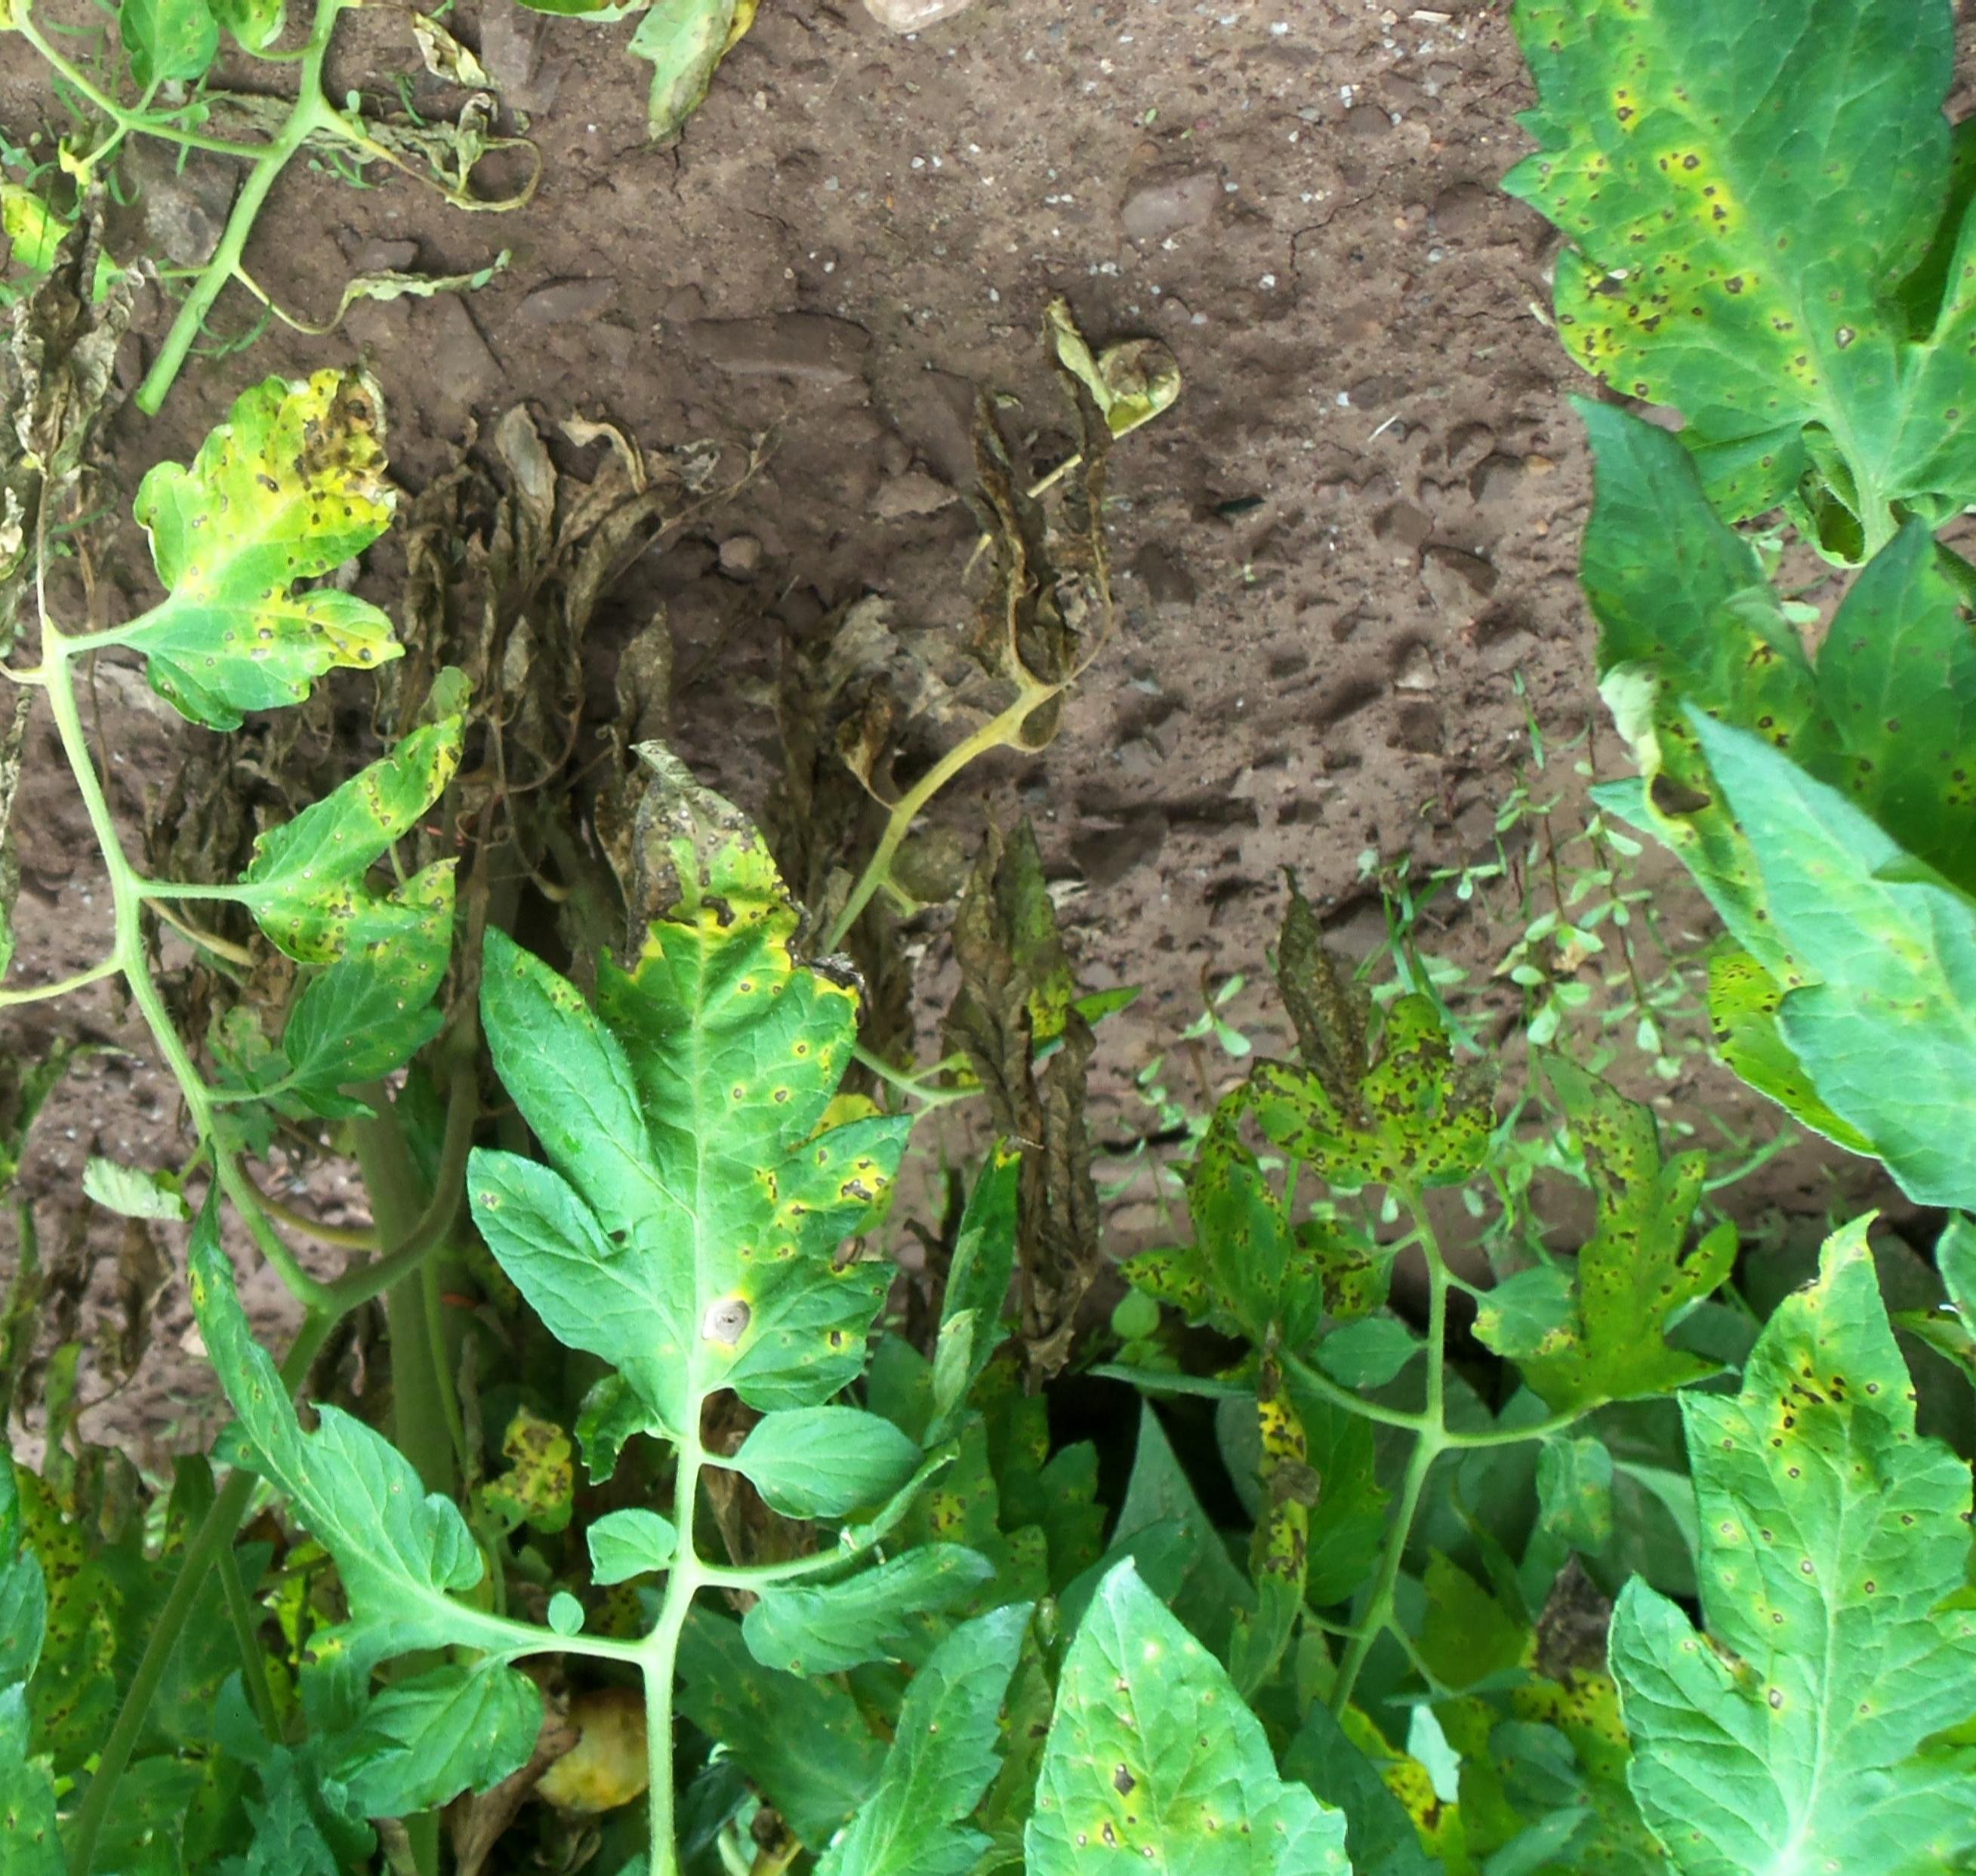Tomato Septoria leaf spot: (474, 763, 918, 1458), (1438, 0, 1943, 552), (1578, 1197, 1976, 1876), (964, 1515, 1440, 1876), (97, 353, 420, 742), (241, 718, 469, 934)
